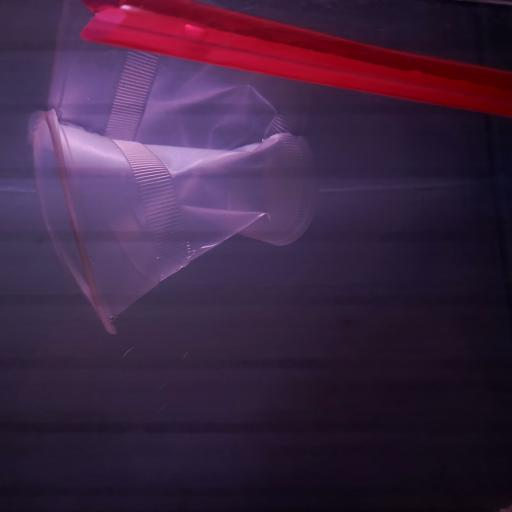plastic_cup: (32, 109, 319, 333)
plastic_straw: (78, 5, 512, 118)
